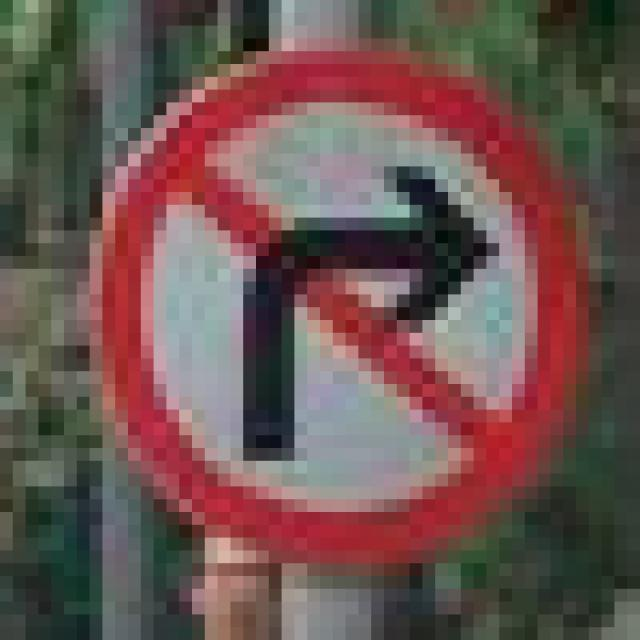right turn prohibited: (68, 40, 596, 577)
